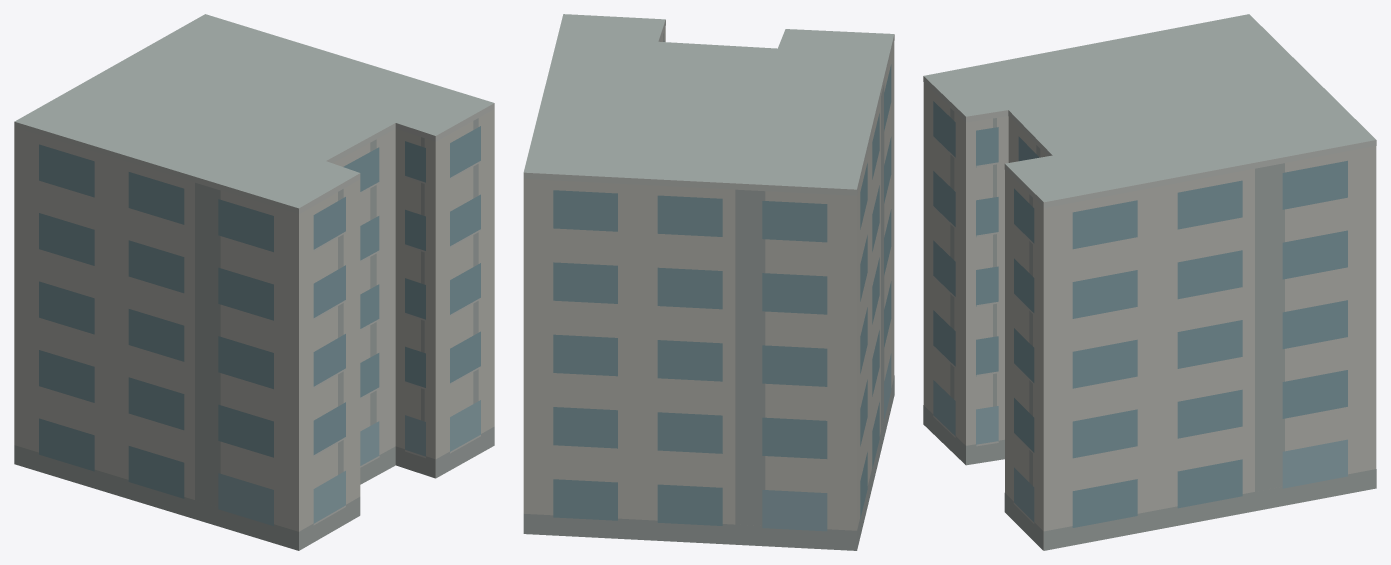
Rendered from survey-upis-32866115.glb.
The picture shows the model from 3 angles, left to right: view 1: azimuth 30°, elevation 25°; view 2: azimuth 150°, elevation 25°; view 3: azimuth 270°, elevation 25°; orthographic projection. The views are drawn at different scales.
Parts seen in each view (by area): view 1: survey-upis-32866115.tmp; view 2: survey-upis-32866115.tmp; view 3: survey-upis-32866115.tmp.
Boxes of the visible parts, left/top/right/bottom form: survey-upis-32866115.tmp: left=14, top=14, right=494, bottom=550; survey-upis-32866115.tmp: left=523, top=14, right=894, bottom=550; survey-upis-32866115.tmp: left=923, top=14, right=1376, bottom=550.
Bounding box in the file's own units: 16.35 × 14.1 × 16.62.
